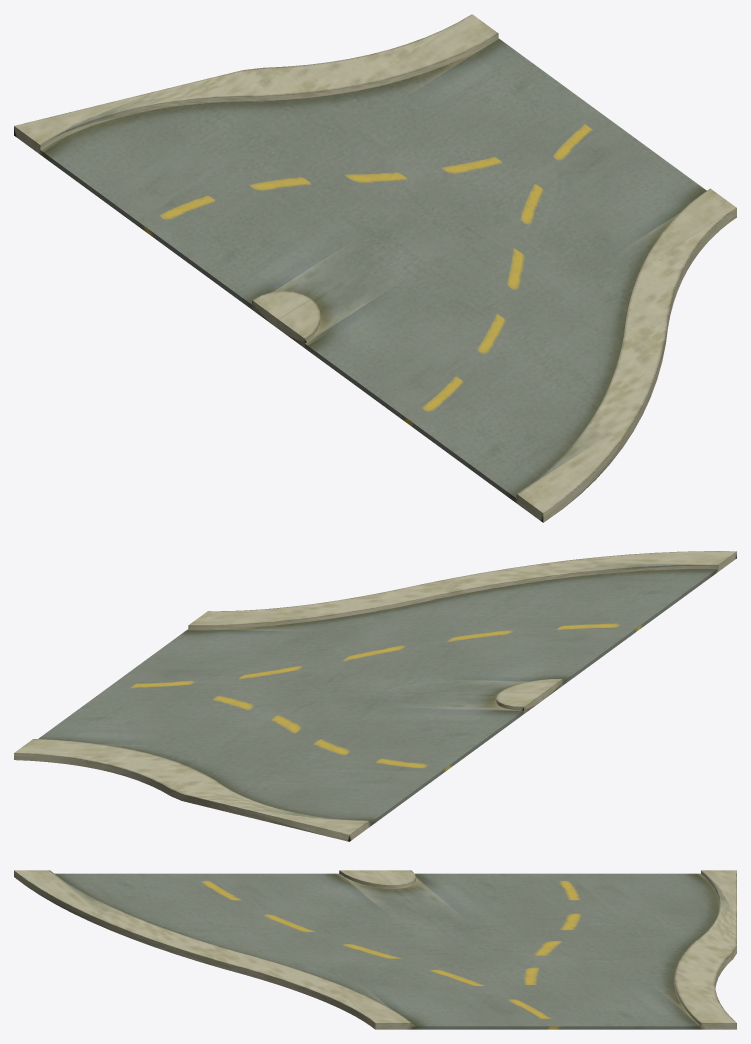
The model's file is road-split-2.glb.
3 views of the same model, one above another, from view 1: azimuth 30°, elevation 25°; view 2: azimuth 150°, elevation 25°; view 3: azimuth 270°, elevation 25° (orthographic). The views are drawn at different scales.
Parts seen in each view (by area): view 1: road-split; view 2: road-split; view 3: road-split.
Boxes of the visible parts, box(x1,y1,x2,y2) form: road-split: box(14, 14, 736, 522); road-split: box(14, 551, 736, 841); road-split: box(14, 870, 736, 1029).
Size of the model in its own units: 1 by 0.02 by 2.
1 material, 1 textured.
